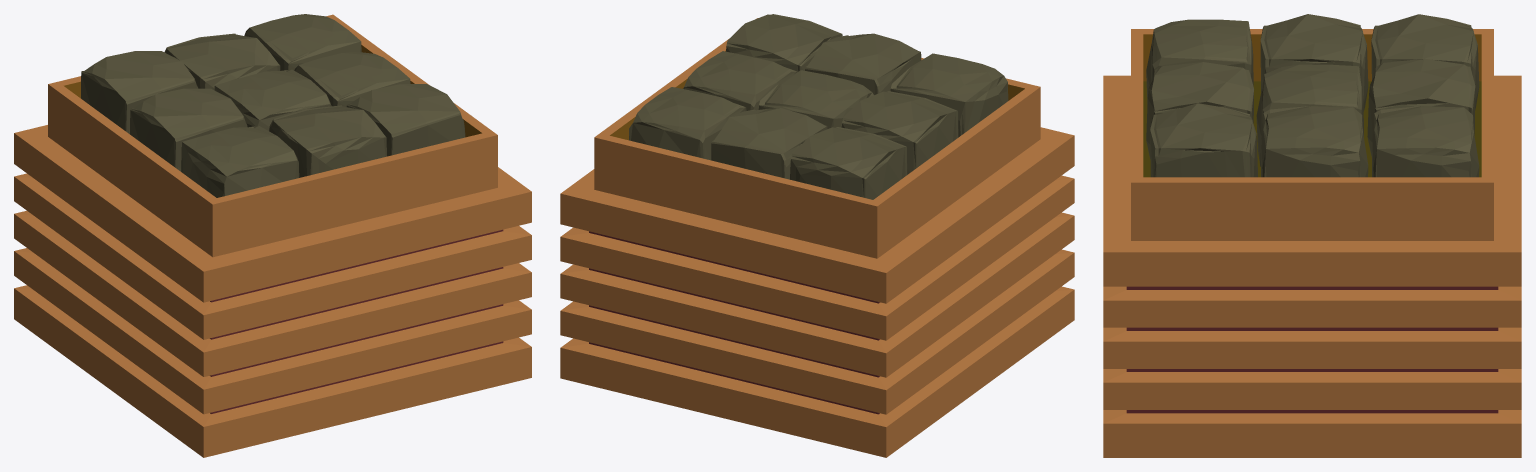
Rendered from 19_chauxonghoi.fbx.
3 renders of one model, left to right at view 1: azimuth 30°, elevation 25°; view 2: azimuth 150°, elevation 25°; view 3: azimuth 270°, elevation 25°, orthographic. The views are drawn at different scales.
Parts seen in each view (by area): view 1: chauxonghoi; view 2: chauxonghoi; view 3: chauxonghoi.
Part boxes in pixels (x1,y1,x2,y2): chauxonghoi: (14, 14, 531, 457); chauxonghoi: (560, 14, 1074, 457); chauxonghoi: (1103, 14, 1521, 457).
Size of the model in its own units: 104 by 79.44 by 104.
